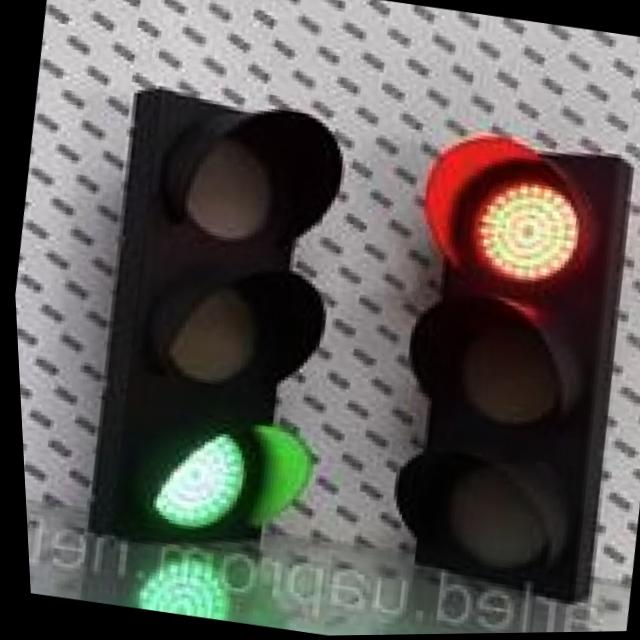green_light: (100, 389, 311, 562)
red_light: (389, 121, 640, 313)
